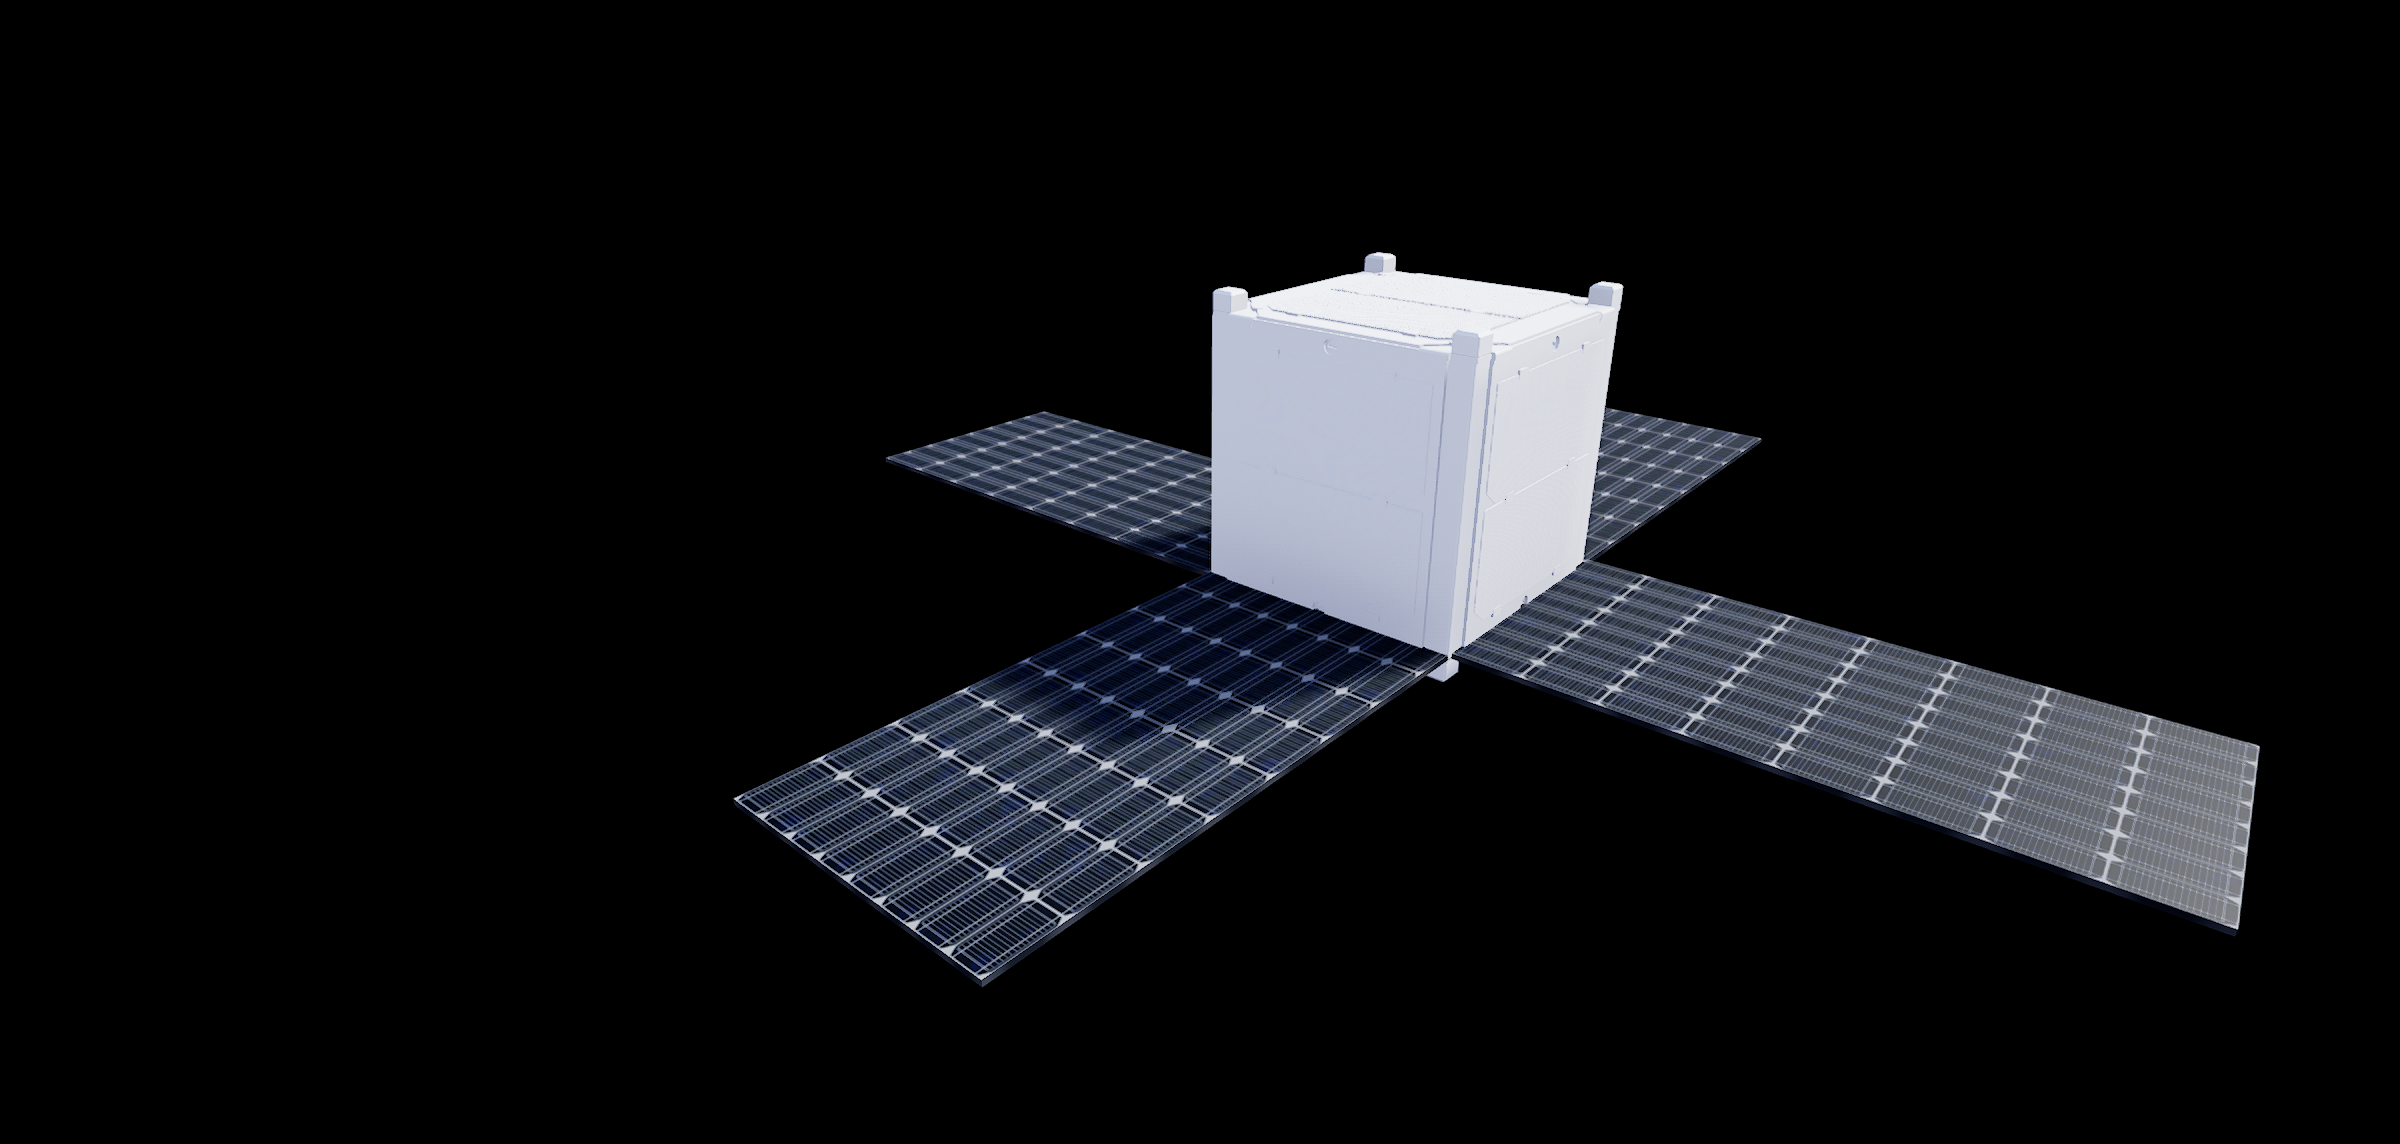satellite: (635, 227, 2262, 988)
